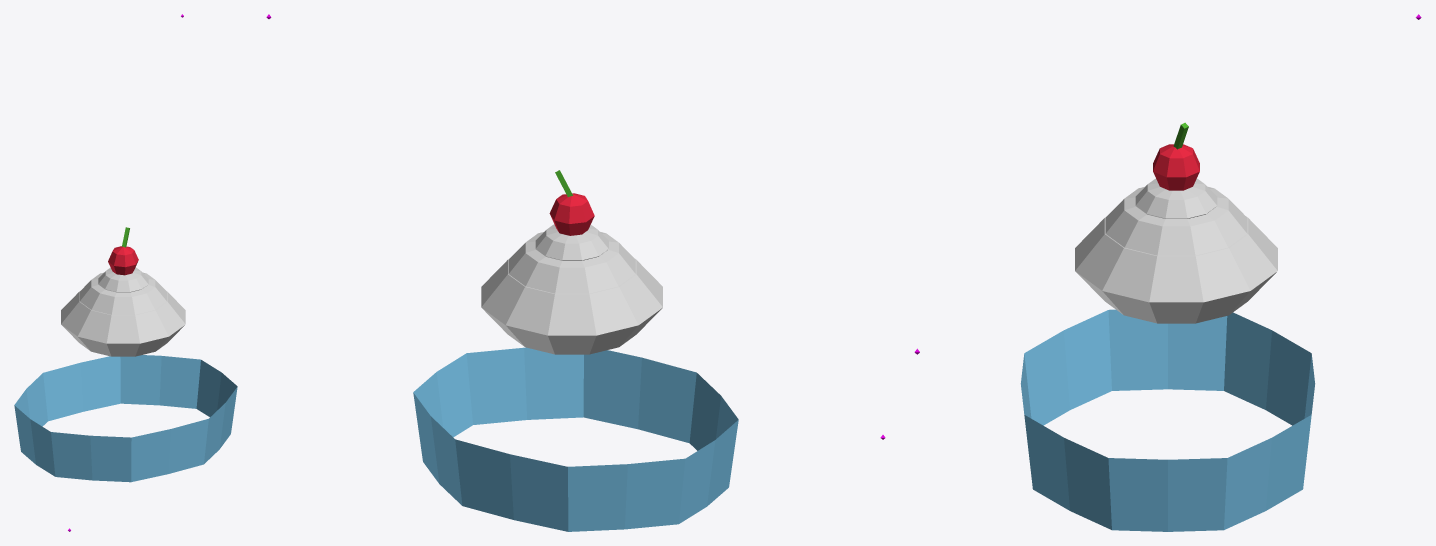
Rendered from acc_cupcake.fbx.
The picture shows the model from 3 angles, left to right: view 1: azimuth 30°, elevation 25°; view 2: azimuth 150°, elevation 25°; view 3: azimuth 270°, elevation 25°; orthographic projection. The views are drawn at different scales.
Visible parts, largest first — view 1: Wrapper, Frosting, Cherry; view 2: Wrapper, Frosting, Cherry; view 3: Wrapper, Frosting, Cherry.
Boxes of the visible parts, x1,y1,x2,y2 form: Wrapper: (14, 355, 237, 482); Frosting: (61, 267, 185, 356); Cherry: (108, 246, 138, 275); Wrapper: (413, 347, 738, 531); Frosting: (481, 224, 662, 354); Cherry: (549, 193, 594, 235); Wrapper: (1020, 309, 1315, 531); Frosting: (1075, 178, 1277, 323); Cherry: (1153, 144, 1199, 190).
Bounding box in the file's own units: 2.99 × 3.6 × 2.99.
